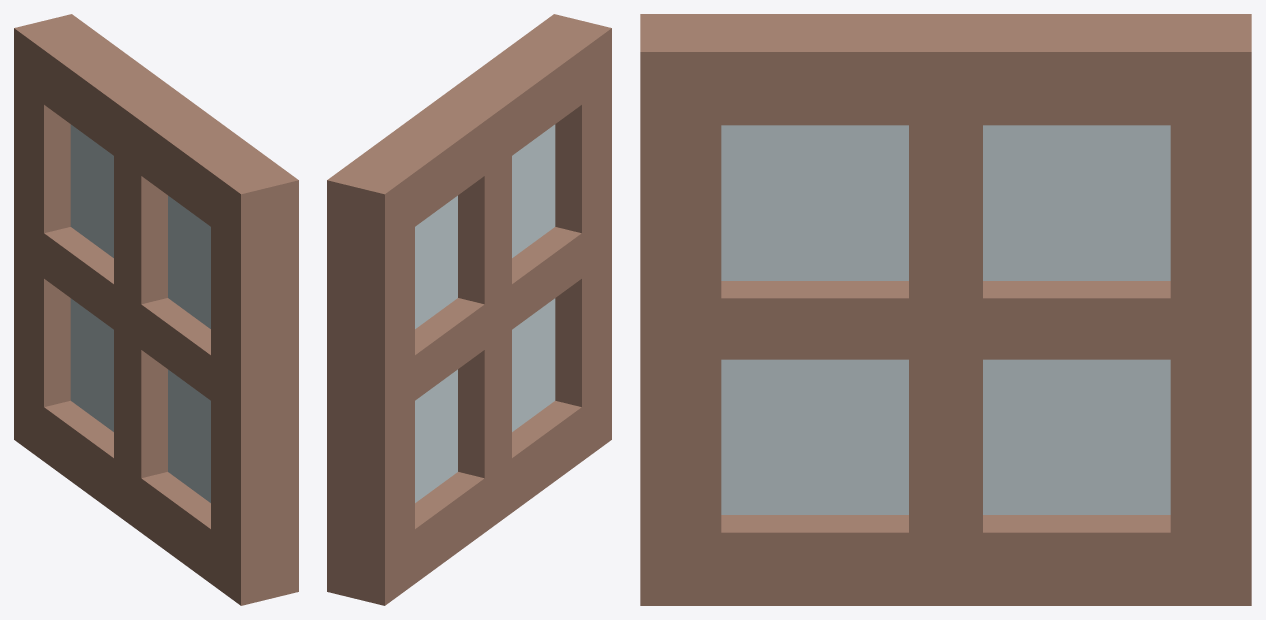
Rendered from Window_Small.fbx.
3 views of the same model, side by side, from view 1: azimuth 30°, elevation 25°; view 2: azimuth 150°, elevation 25°; view 3: azimuth 270°, elevation 25° (orthographic). The views are drawn at different scales.
Parts seen in each view (by area): view 1: Widow_Small; view 2: Widow_Small; view 3: Widow_Small.
Boxes of the visible parts, x1,y1,x2,y2 form: Widow_Small: (14,14,298,605); Widow_Small: (327,14,611,605); Widow_Small: (640,14,1251,605).
Bounding box in the file's own units: 170 × 24.99 × 170.
